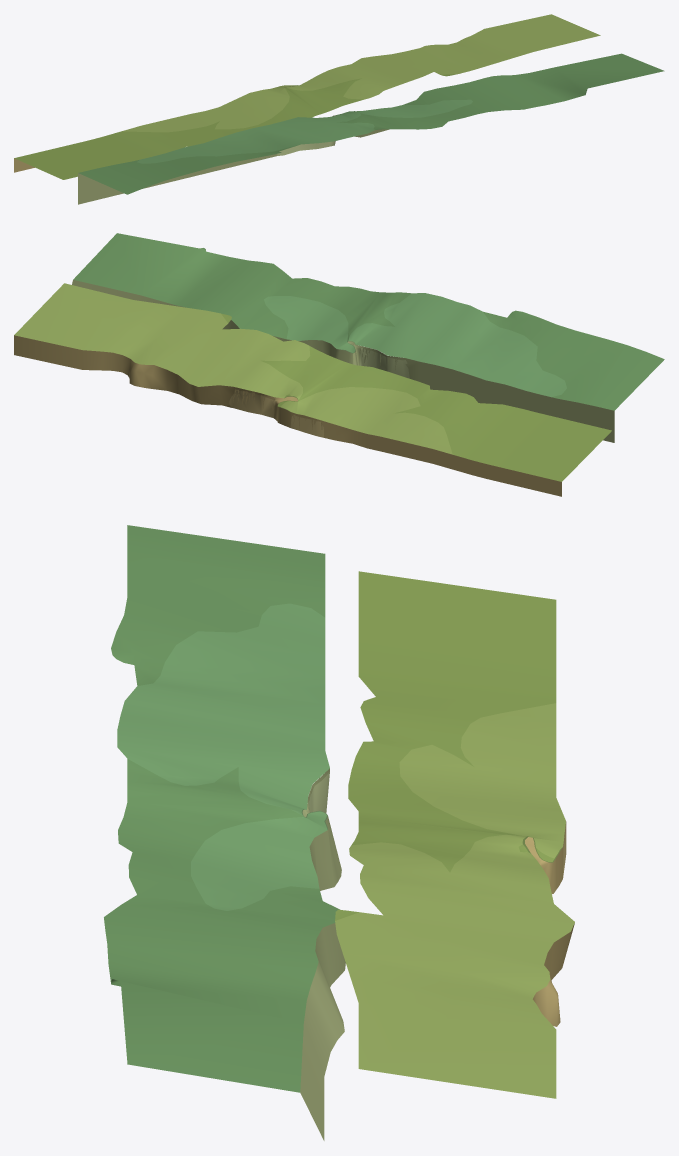
The model's file is Mesh_Battle_Forest_Ground.FBX.
3 renders of one model, top to bottom at view 1: azimuth 30°, elevation 25°; view 2: azimuth 150°, elevation 25°; view 3: azimuth 270°, elevation 25°, orthographic. The views are drawn at different scales.
Visible parts, largest first — view 1: Mesh_Battle_Forest_Ground; view 2: Mesh_Battle_Forest_Ground; view 3: Mesh_Battle_Forest_Ground.
Part boxes in pixels (left/top/right/bottom): Mesh_Battle_Forest_Ground: left=14, top=14, right=664, bottom=204; Mesh_Battle_Forest_Ground: left=14, top=233, right=664, bottom=496; Mesh_Battle_Forest_Ground: left=104, top=525, right=574, bottom=1140.
Bounding box in the file's own units: 4646 × 521 × 1744.
